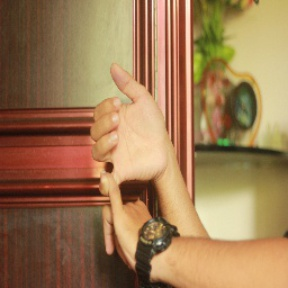S: (81, 62, 175, 268)
